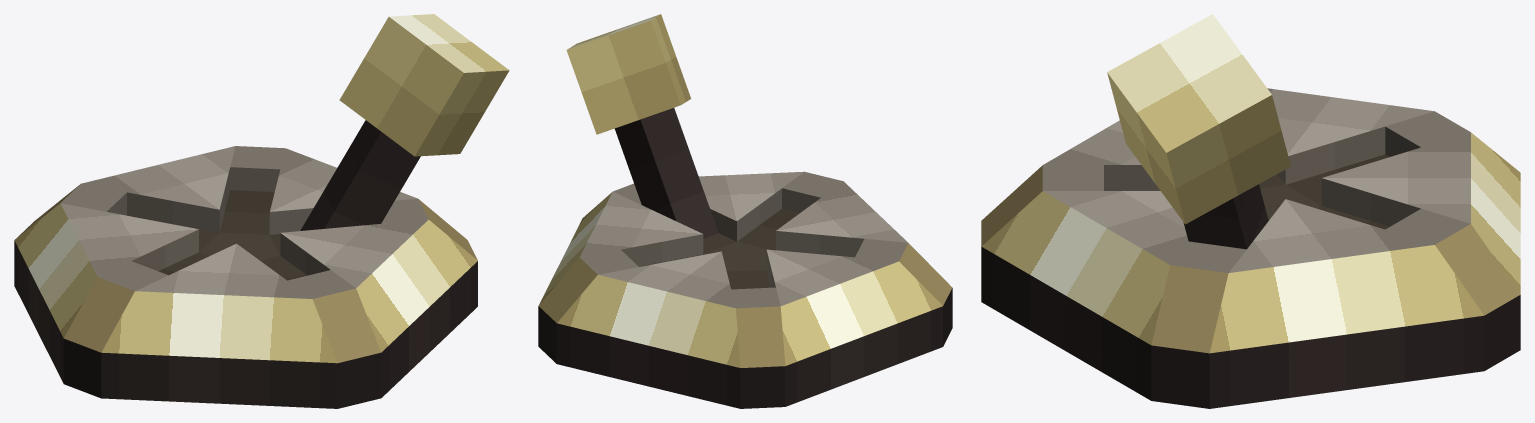
File: lever_6state_5.obj
The picture shows the model from 3 angles, left to right: view 1: azimuth 30°, elevation 25°; view 2: azimuth 150°, elevation 25°; view 3: azimuth 270°, elevation 25°; orthographic projection. The views are drawn at different scales.
Visible parts, largest first — view 1: 6-STATE_Circle.003, LEVER_Cube.049; view 2: 6-STATE_Circle.003, LEVER_Cube.049; view 3: 6-STATE_Circle.003, LEVER_Cube.049.
Boxes of the visible parts, box(x1,y1,x2,y2) form: 6-STATE_Circle.003: box(14, 146, 477, 408); LEVER_Cube.049: box(300, 14, 509, 230); 6-STATE_Circle.003: box(538, 171, 952, 408); LEVER_Cube.049: box(566, 14, 718, 238); 6-STATE_Circle.003: box(981, 88, 1520, 408); LEVER_Cube.049: box(1107, 14, 1290, 249).
Size of the model in its own units: 0.6122 by 0.3924 by 0.5493.
